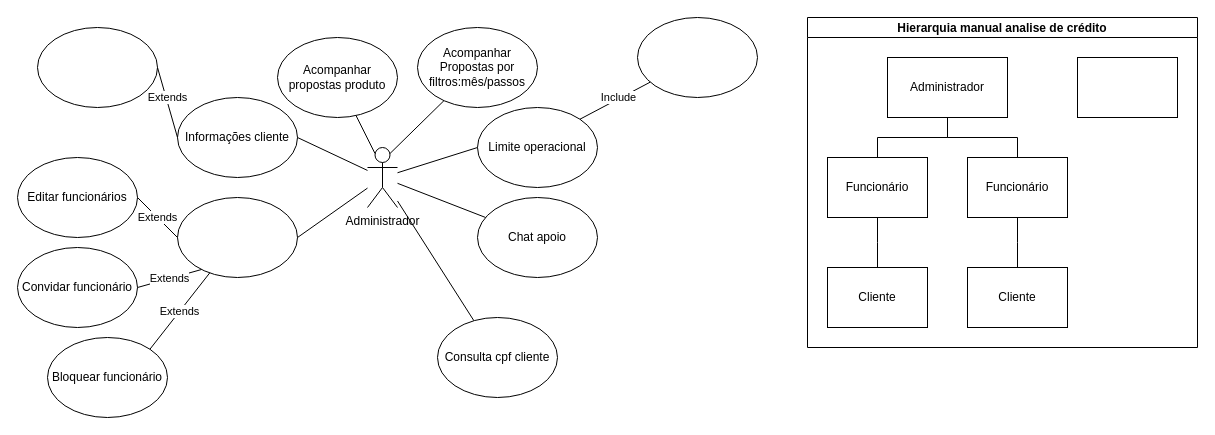
Some shapes in this 1215 by 435 pixel diagram are drawn without their labels. Here are the shapes that lost their labels. From the top down, the centre of each, then its label:
(x=97, y=67): Verificar pendencias
(x=697, y=57): Selecionar nível
(x=1127, y=87): Suporte Help desk
(x=237, y=237): Funcionários
